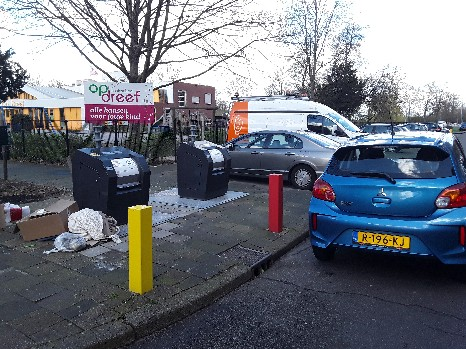Container: (78, 146, 147, 212), (183, 142, 234, 207)
Papier: (24, 202, 67, 238)
Rest: (69, 211, 116, 244)
Voertuig: (318, 125, 459, 260), (234, 80, 362, 157), (225, 124, 349, 192), (369, 108, 444, 141)
